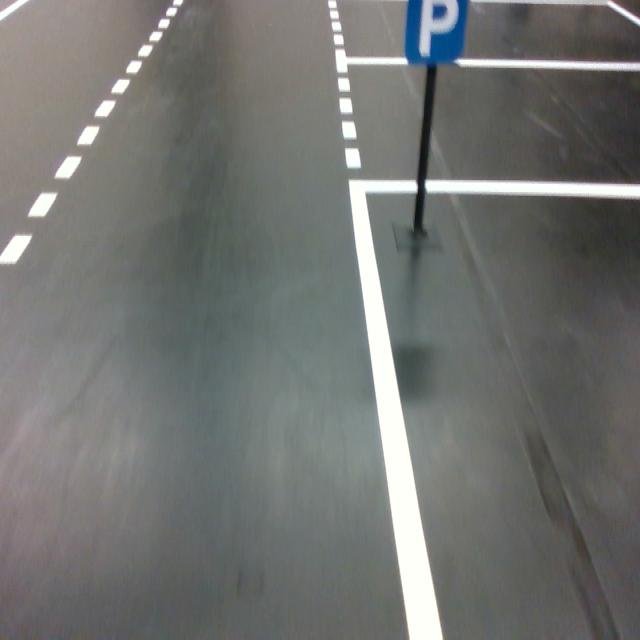parking-sign: (403, 0, 469, 66)
